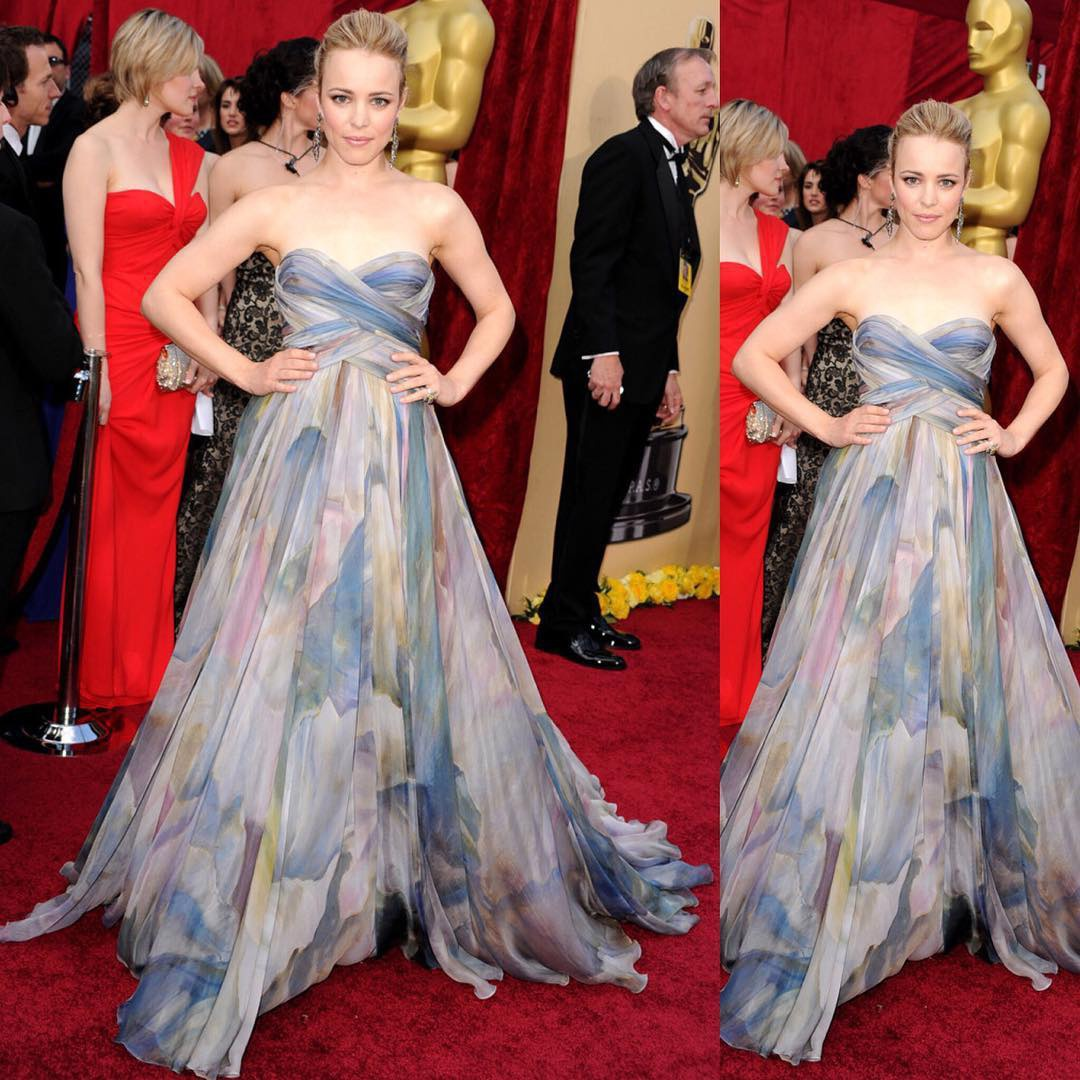hand: (583, 351, 620, 405)
